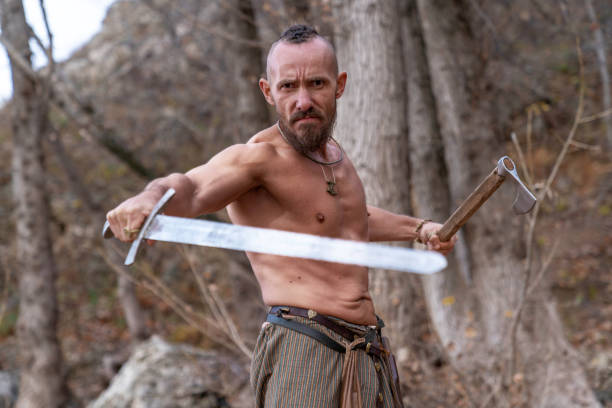knife: (99, 186, 450, 278)
